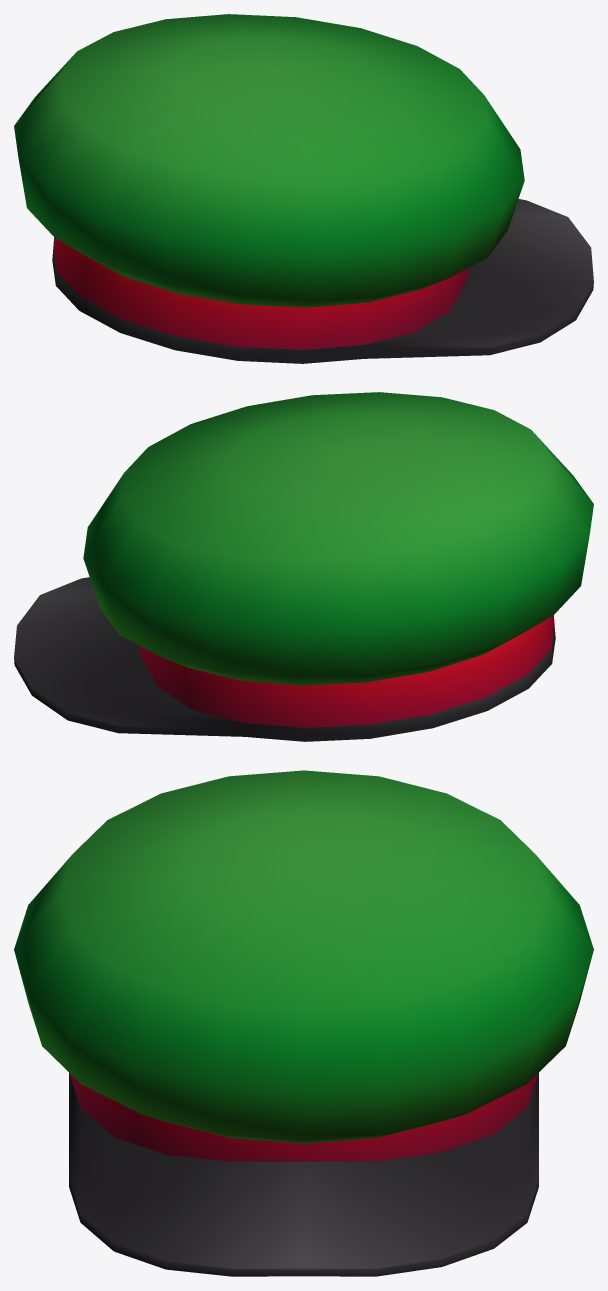
The model's file is Dictator.fbx.
3 views of the same model, one above another, from view 1: azimuth 30°, elevation 25°; view 2: azimuth 150°, elevation 25°; view 3: azimuth 270°, elevation 25° (orthographic). The views are drawn at different scales.
Parts seen in each view (by area): view 1: Dictator; view 2: Dictator; view 3: Dictator.
Part boxes in pixels (box(x1,y1,x2,y2)): Dictator: box(14, 14, 593, 363); Dictator: box(14, 392, 593, 741); Dictator: box(14, 770, 593, 1276).
Size of the model in its own units: 334 by 149 by 286.
1 material, 1 textured.
